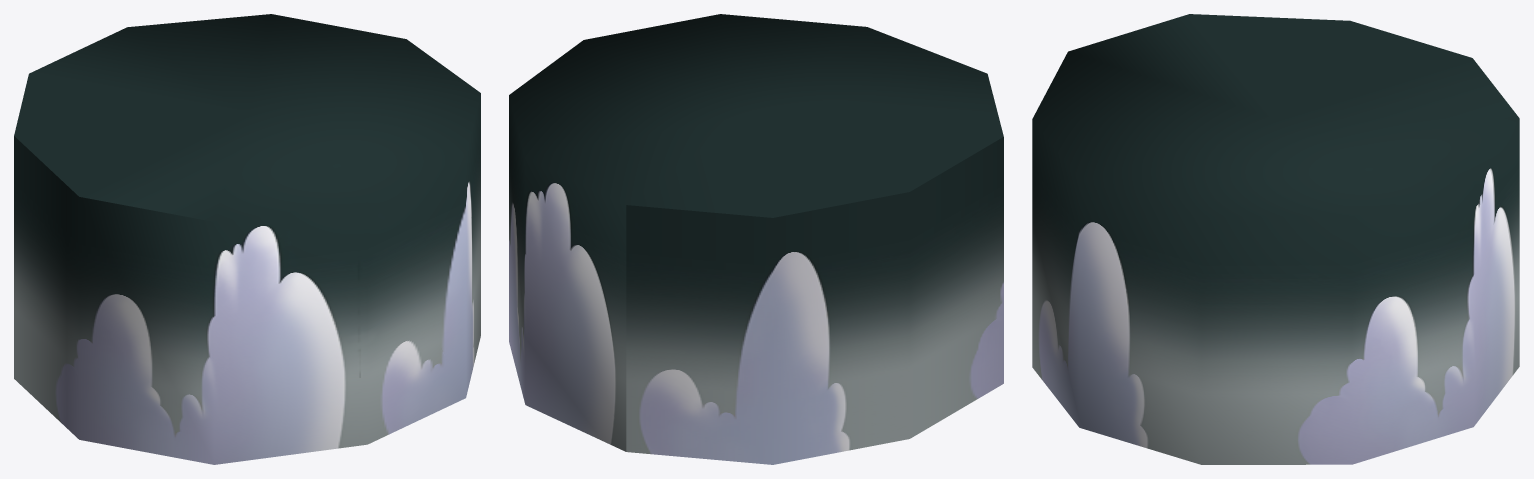
The model's file is penthouse.fbx.
The picture shows the model from 3 angles, left to right: view 1: azimuth 30°, elevation 25°; view 2: azimuth 150°, elevation 25°; view 3: azimuth 270°, elevation 25°; orthographic projection. The views are drawn at different scales.
Parts seen in each view (by area): view 1: skyGeo1; view 2: skyGeo1; view 3: skyGeo1.
Boxes of the visible parts, x1,y1,x2,y2 form: skyGeo1: (14,14,480,464); skyGeo1: (509,14,1003,464); skyGeo1: (1032,14,1519,464).
Size of what is drawn, in the model's own units: 3634 by 2070 by 3688.
Materials: 25 (24 with a texture image).
